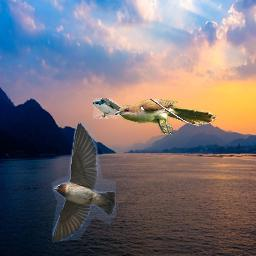Cuckoo: (114, 99, 217, 135)
Swallow: (52, 122, 116, 243), (93, 98, 132, 119)
